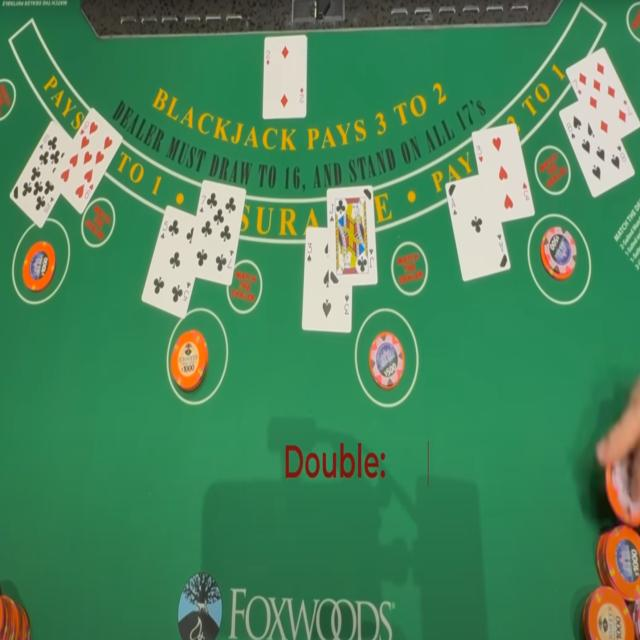10: (43, 133, 49, 145)
2: (265, 48, 271, 60)
3: (306, 240, 314, 254), (476, 143, 484, 156)
5: (162, 219, 168, 231)
7: (572, 78, 579, 89), (201, 193, 206, 205)
8: (566, 121, 573, 133)
9: (83, 120, 89, 131)
A: (449, 196, 458, 209)
J: (328, 202, 334, 215)
